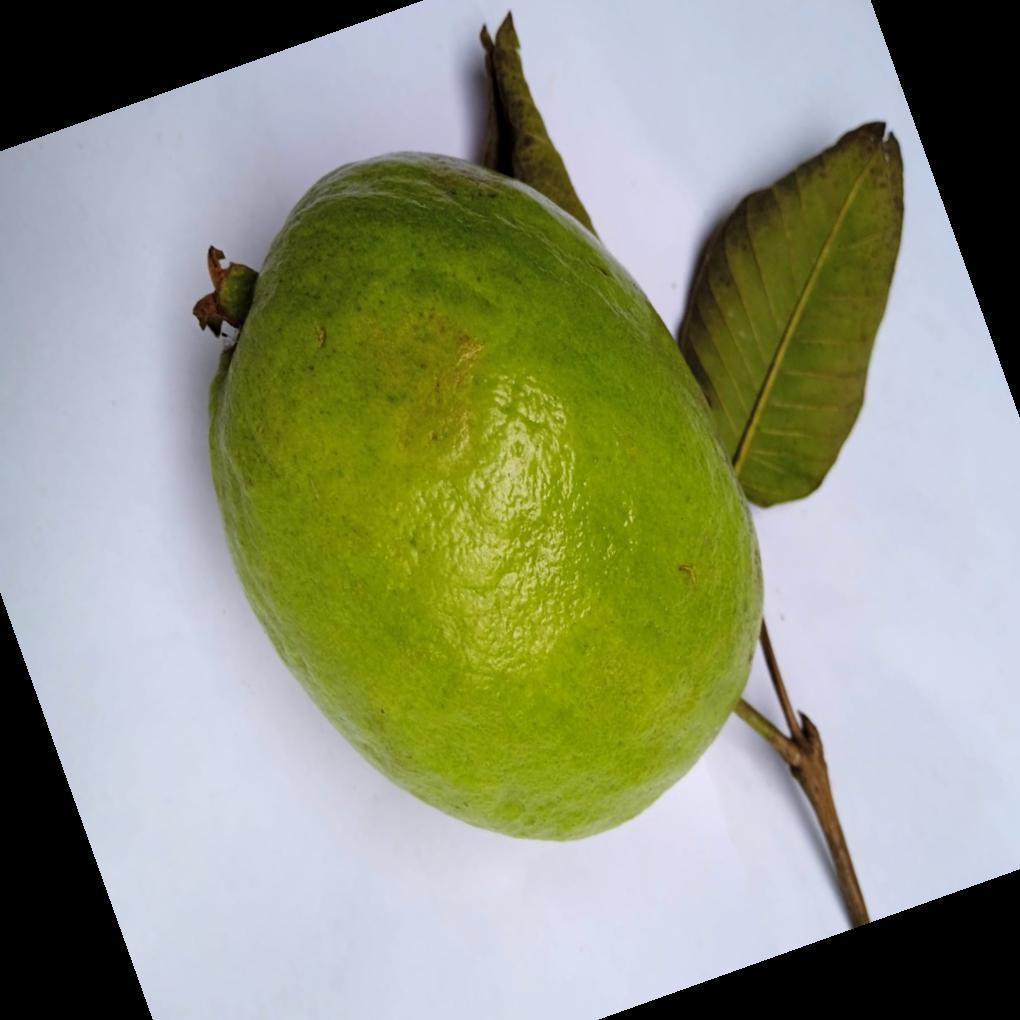FreshGuava: (205, 23, 894, 847)
